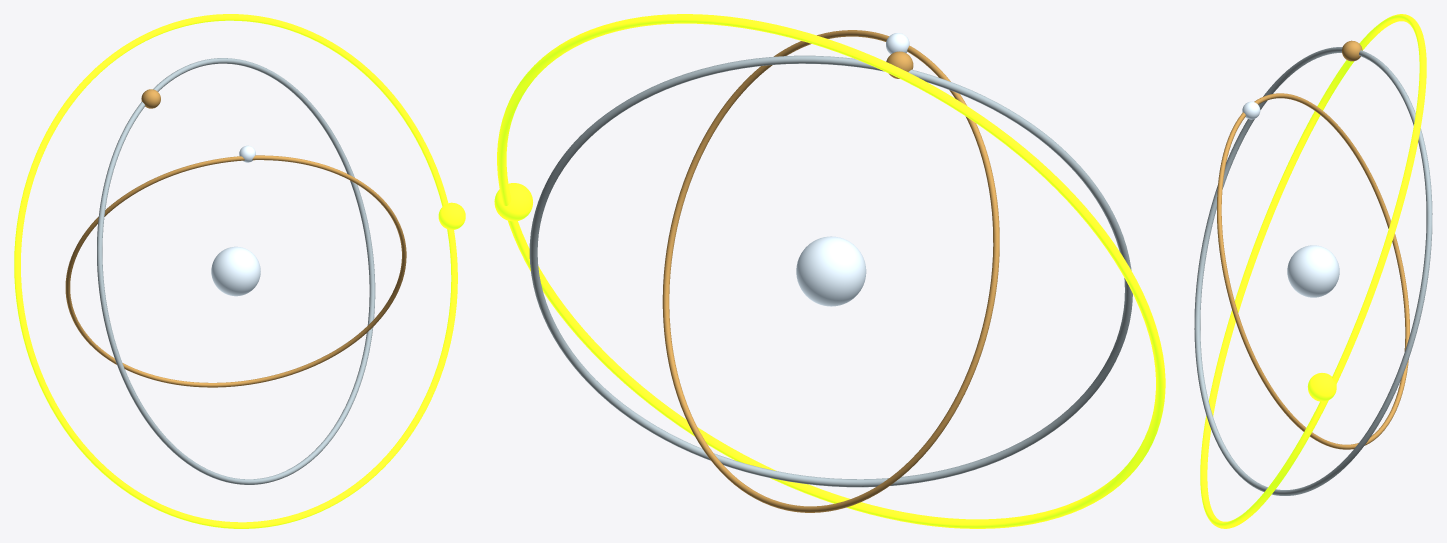
Rendered from hero-orbit.glb.
3 renders of one model, left to right at view 1: azimuth 30°, elevation 25°; view 2: azimuth 150°, elevation 25°; view 3: azimuth 270°, elevation 25°, orthographic. The views are drawn at different scales.
Visible parts, largest first — view 1: HERO_orbit_lime, HERO_orbit_chrome, HERO_orbit_gold, HERO_core, HERO_bead_lime; view 2: HERO_orbit_lime, HERO_orbit_chrome, HERO_orbit_gold, HERO_core, HERO_bead_lime; view 3: HERO_orbit_lime, HERO_orbit_chrome, HERO_orbit_gold, HERO_core, HERO_bead_lime, HERO_bead_gold.
Part boxes in pixels (x1,y1,x2,y2): HERO_orbit_lime: (14, 14, 457, 528); HERO_orbit_chrome: (97, 58, 375, 484); HERO_orbit_gold: (65, 155, 406, 387); HERO_core: (211, 246, 260, 296); HERO_bead_lime: (438, 202, 465, 229); HERO_orbit_lime: (497, 14, 1165, 528); HERO_orbit_chrome: (529, 55, 1132, 487); HERO_orbit_gold: (662, 30, 999, 512); HERO_core: (796, 236, 866, 306); HERO_bead_lime: (494, 183, 532, 221); HERO_orbit_lime: (1200, 14, 1426, 528); HERO_orbit_chrome: (1194, 47, 1432, 495); HERO_orbit_gold: (1217, 93, 1409, 449); HERO_core: (1287, 245, 1339, 297); HERO_bead_lime: (1307, 373, 1336, 401); HERO_bead_gold: (1342, 40, 1362, 61).
Size of the model in its own units: 4.03 by 3.62 by 1.72.
